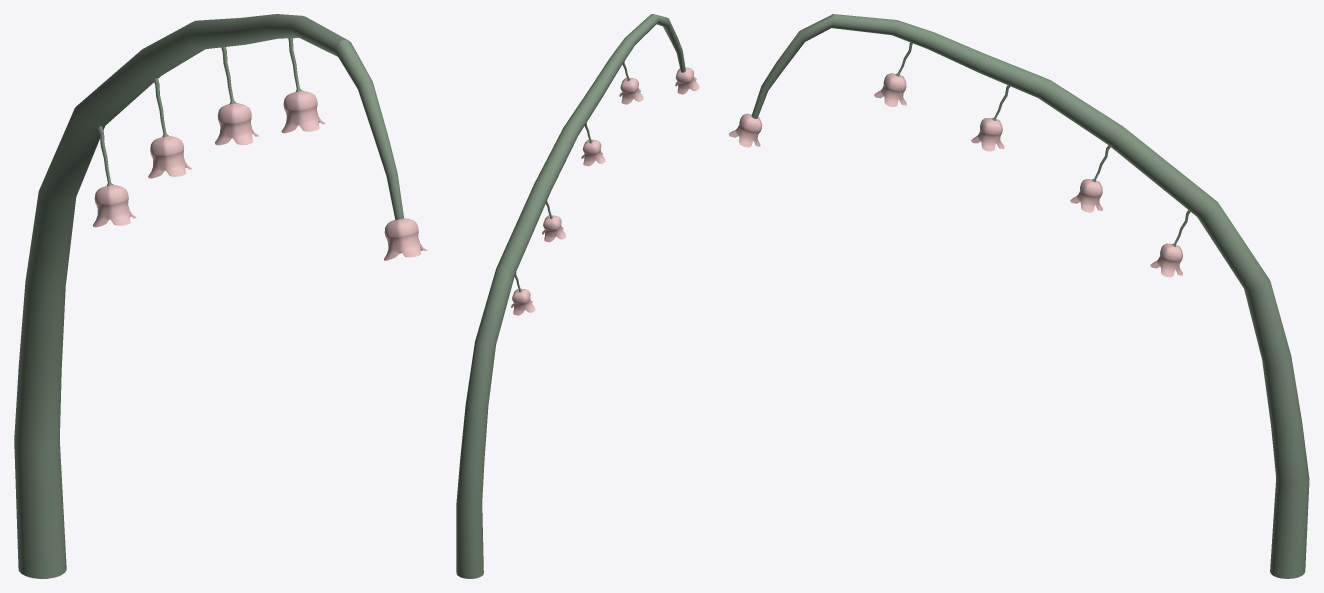
Rendered from LILYNEWNEWNEW.fbx.
3 renders of one model, left to right at view 1: azimuth 30°, elevation 25°; view 2: azimuth 150°, elevation 25°; view 3: azimuth 270°, elevation 25°, orthographic. The views are drawn at different scales.
Visible parts, largest first — view 1: pCylinder24; view 2: pCylinder24; view 3: pCylinder24.
Part boxes in pixels (x1,y1,x2,y2): pCylinder24: [14, 14, 427, 578]; pCylinder24: [456, 14, 699, 578]; pCylinder24: [728, 14, 1309, 578].
Bounding box in the file's own units: 0.2505 × 3.4 × 3.24.
